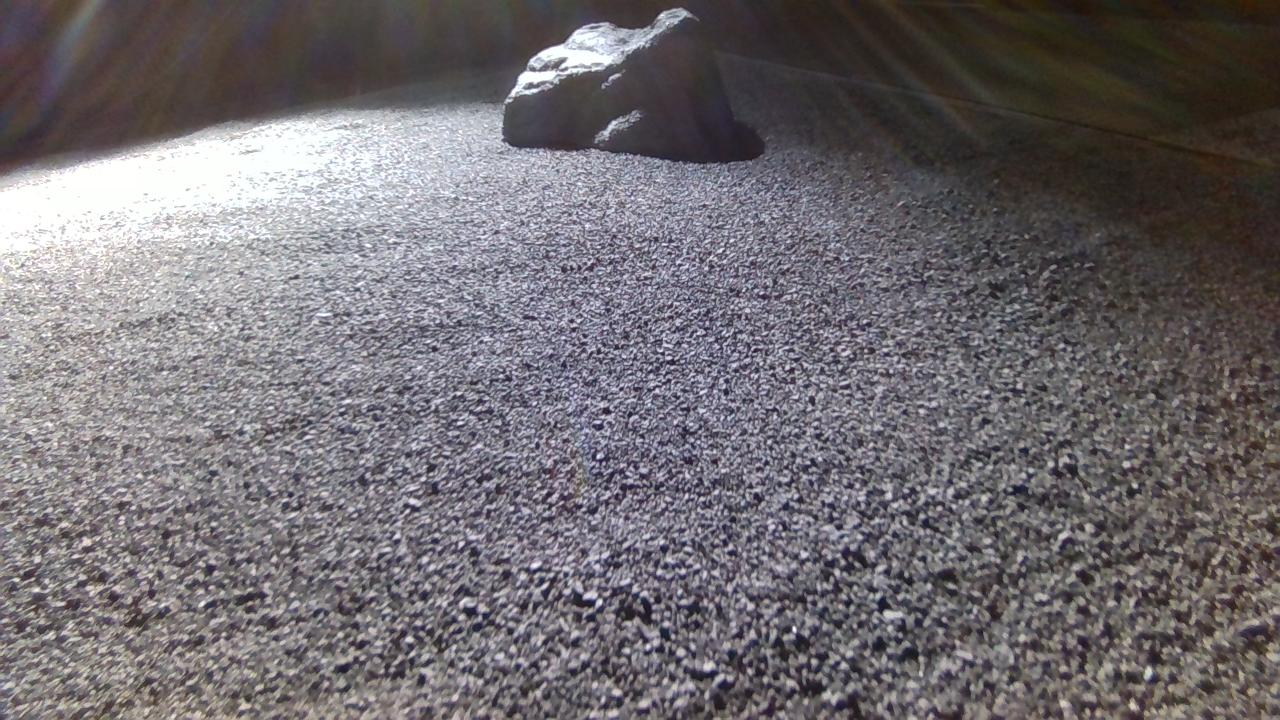rock: (503, 7, 738, 163)
